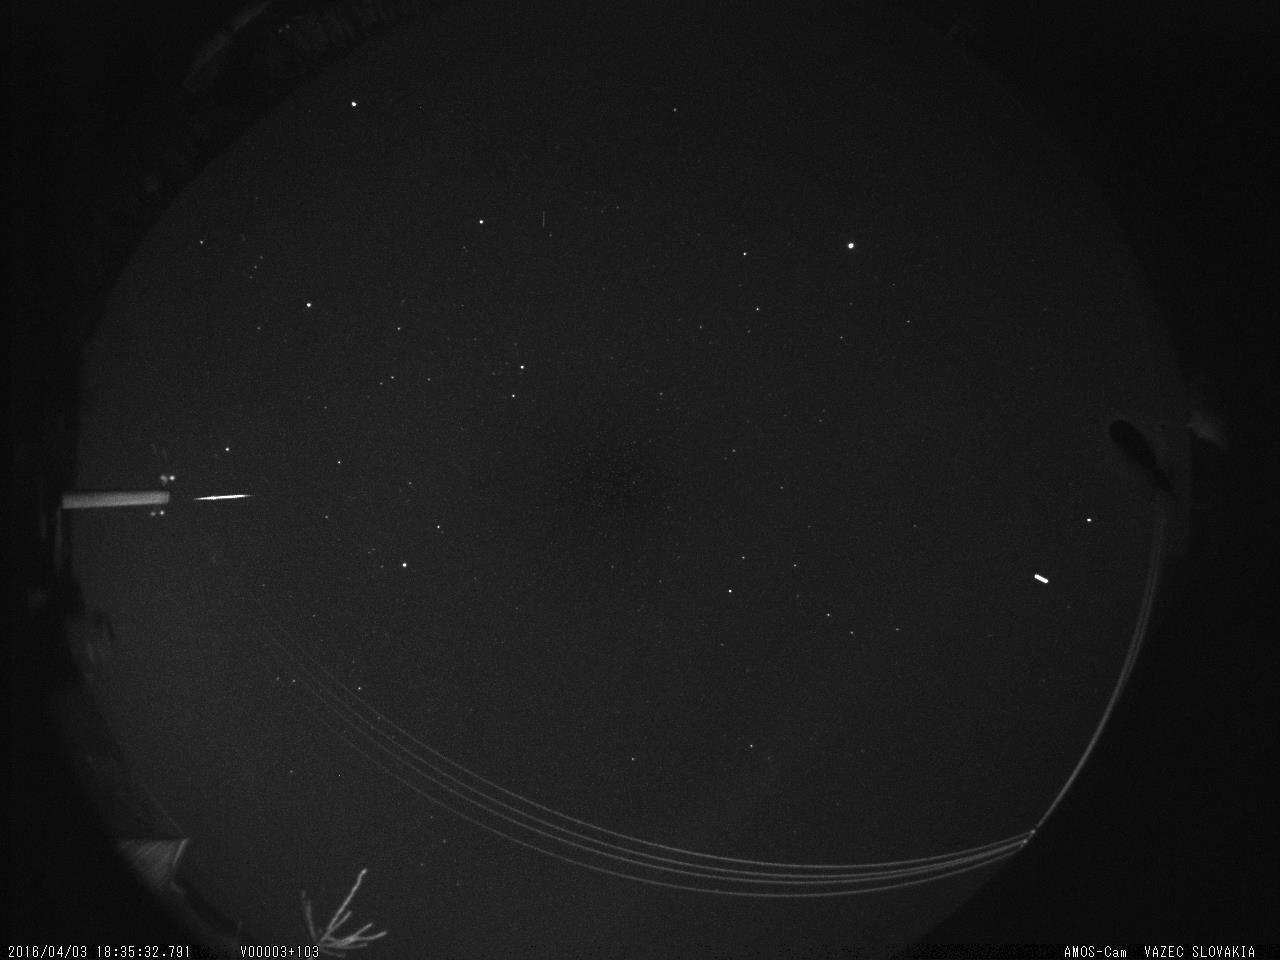Meteor: (186, 489, 257, 509)
